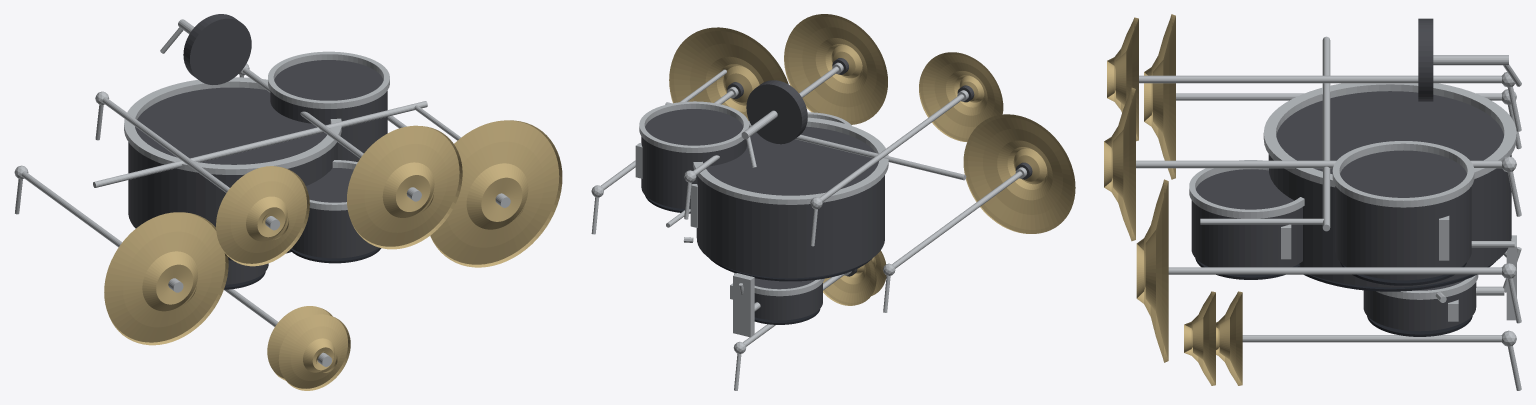
File: drums.glb
3 views of the same model, side by side, from view 1: azimuth 30°, elevation 25°; view 2: azimuth 150°, elevation 25°; view 3: azimuth 270°, elevation 25° (orthographic). The views are drawn at different scales.
Parts seen in each view (by area): view 1: Bass_Drum_shell, Ride_Cymbal, Left_Crash_Cymbal, Right_Crash_Cymbal, Splash_Cymbal, Floor_Tom_shell, HiHat_Top_Cymbal, Rack_Tom_shell, Bass_Drum_chrome_rim, Drum_Throne_Seat, Floor_Tom_chrome_rim, Cymbal_Rack_Crossbar (+7 smaller); view 2: Bass_Drum_shell, Left_Crash_Cymbal, Right_Crash_Cymbal, Ride_Cymbal, Floor_Tom_shell, Splash_Cymbal, Bass_Drum_chrome_rim, Drum_Throne_Seat, Snare_Drum_shell, Floor_Tom_chrome_rim, HiHat_Bottom_Cymbal, Bass_Pedal_Base (+6 smaller); view 3: Bass_Drum_shell, Floor_Tom_shell, Rack_Tom_shell, Bass_Drum_chrome_rim, Ride_Cymbal, Snare_Drum_shell, Floor_Tom_chrome_rim, Splash_Cymbal_stand_mast, Right_Crash_Cymbal, Left_Crash_Cymbal, Ride_Cymbal_stand_mast, Splash_Cymbal (+19 smaller).
Boxes of the visible parts, x1,y1,x2,y2 form: Bass_Drum_shell: (128, 87, 337, 228); Ride_Cymbal: (430, 120, 562, 267); Left_Crash_Cymbal: (104, 212, 228, 345); Right_Crash_Cymbal: (347, 125, 462, 249); Splash_Cymbal: (216, 166, 309, 266); Floor_Tom_shell: (270, 60, 387, 161); HiHat_Top_Cymbal: (278, 314, 350, 390); Rack_Tom_shell: (292, 168, 378, 258); Bass_Drum_chrome_rim: (124, 77, 341, 174); Drum_Throne_Seat: (183, 14, 251, 84); Floor_Tom_chrome_rim: (268, 51, 389, 108); Cymbal_Rack_Crossbar: (93, 101, 427, 187); Bass_Drum_shell: (696, 126, 884, 278); Left_Crash_Cymbal: (963, 114, 1075, 233); Right_Crash_Cymbal: (784, 14, 887, 124); Ride_Cymbal: (669, 27, 788, 120); Floor_Tom_shell: (641, 109, 746, 209); Splash_Cymbal: (919, 52, 1003, 141); Bass_Drum_chrome_rim: (693, 117, 888, 204); Drum_Throne_Seat: (746, 80, 807, 144); Snare_Drum_shell: (754, 278, 822, 320); Floor_Tom_chrome_rim: (639, 101, 748, 152); HiHat_Bottom_Cymbal: (823, 260, 876, 305); Bass_Pedal_Base: (733, 273, 754, 337); Bass_Drum_shell: (1268, 91, 1511, 287); Floor_Tom_shell: (1335, 150, 1471, 280); Rack_Tom_shell: (1191, 169, 1302, 267); Bass_Drum_chrome_rim: (1263, 83, 1516, 187); Ride_Cymbal: (1136, 179, 1168, 362); Snare_Drum_shell: (1363, 280, 1476, 331); Floor_Tom_chrome_rim: (1332, 141, 1474, 207); Splash_Cymbal_stand_mast: (1139, 75, 1501, 83); Right_Crash_Cymbal: (1104, 87, 1135, 241); Left_Crash_Cymbal: (1144, 14, 1175, 179); Ride_Cymbal_stand_mast: (1168, 267, 1501, 274); Splash_Cymbal: (1107, 17, 1138, 141).
Size of the model in its own units: 4.11 by 2.71 by 2.82.
